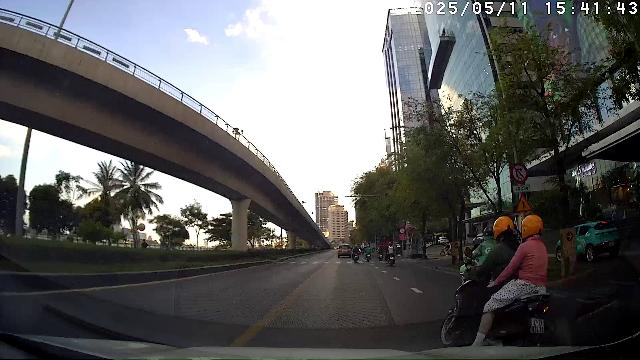103b-cam-oto-re-phai: (510, 162, 529, 183)
